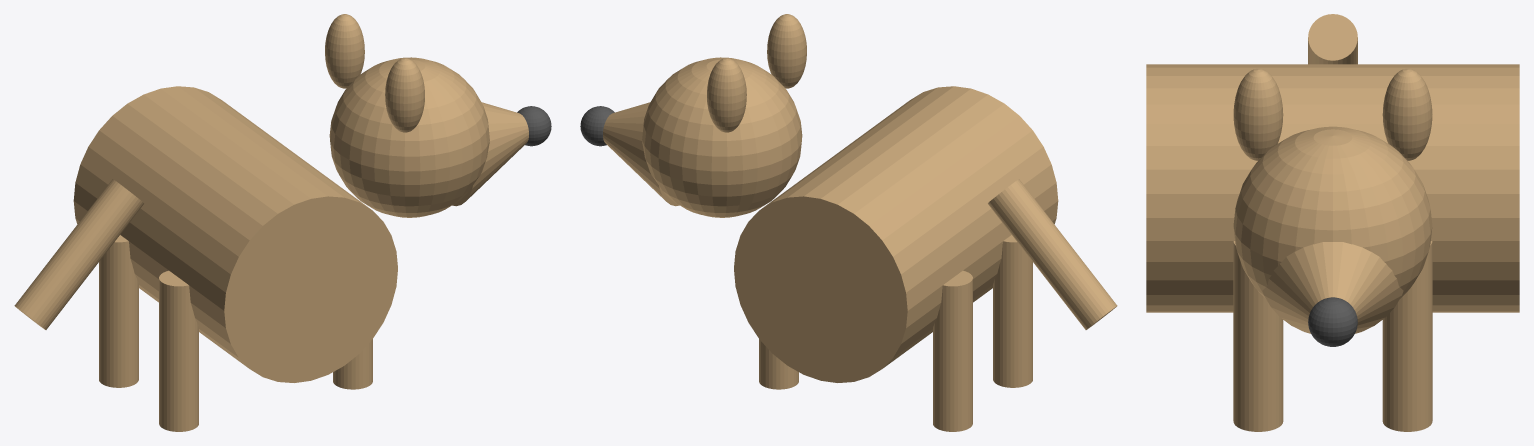
File: dog.glb
3 views of the same model, side by side, from view 1: azimuth 30°, elevation 25°; view 2: azimuth 150°, elevation 25°; view 3: azimuth 270°, elevation 25° (orthographic). The views are drawn at different scales.
Visible parts, largest first — view 1: dog_body, dog_head, dog_tail, dog_leg_3, dog_leg_2, dog_snout, dog_ear_right, dog_ear_left, dog_leg_1, dog_nose; view 2: dog_body, dog_head, dog_tail, dog_leg_2, dog_leg_3, dog_snout, dog_ear_left, dog_ear_right, dog_leg_0, dog_nose; view 3: dog_body, dog_head, dog_snout, dog_leg_1, dog_leg_0, dog_ear_right, dog_ear_left, dog_tail, dog_nose.
Part boxes in pixels (<box>): dog_body: <box>73,86,397,382</box>; dog_head: <box>329,57,489,217</box>; dog_tail: <box>14,179,143,329</box>; dog_leg_3: <box>159,270,198,431</box>; dog_leg_2: <box>99,235,138,387</box>; dog_snout: <box>452,102,528,206</box>; dog_ear_right: <box>385,58,424,132</box>; dog_ear_left: <box>325,14,364,88</box>; dog_leg_1: <box>333,339,372,389</box>; dog_nose: <box>517,106,551,146</box>; dog_body: <box>734,86,1058,382</box>; dog_head: <box>642,57,802,217</box>; dog_tail: <box>988,179,1117,329</box>; dog_leg_2: <box>933,270,972,431</box>; dog_leg_3: <box>993,235,1032,387</box>; dog_snout: <box>603,102,679,206</box>; dog_ear_left: <box>707,58,746,132</box>; dog_ear_right: <box>767,14,806,88</box>; dog_leg_0: <box>759,339,798,389</box>; dog_nose: <box>580,106,614,146</box>; dog_body: <box>1146,64,1519,312</box>; dog_head: <box>1233,126,1432,298</box>; dog_snout: <box>1262,242,1403,333</box>; dog_leg_1: <box>1233,241,1283,431</box>; dog_leg_0: <box>1382,241,1432,431</box>; dog_ear_right: <box>1233,68,1283,160</box>; dog_ear_left: <box>1382,68,1432,160</box>; dog_tail: <box>1308,14,1357,64</box>; dog_nose: <box>1308,297,1357,346</box>.
Bounding box in the file's own units: 3.05 × 1.7 × 1.5.
